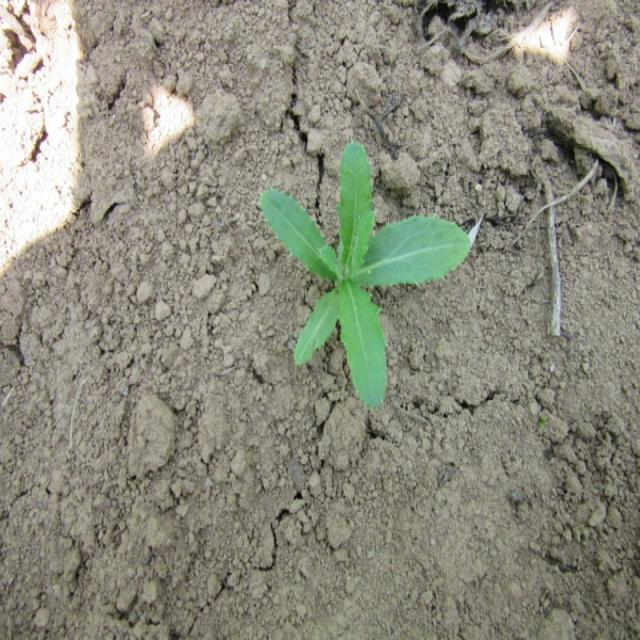field_thistle: (258, 123, 482, 394)
